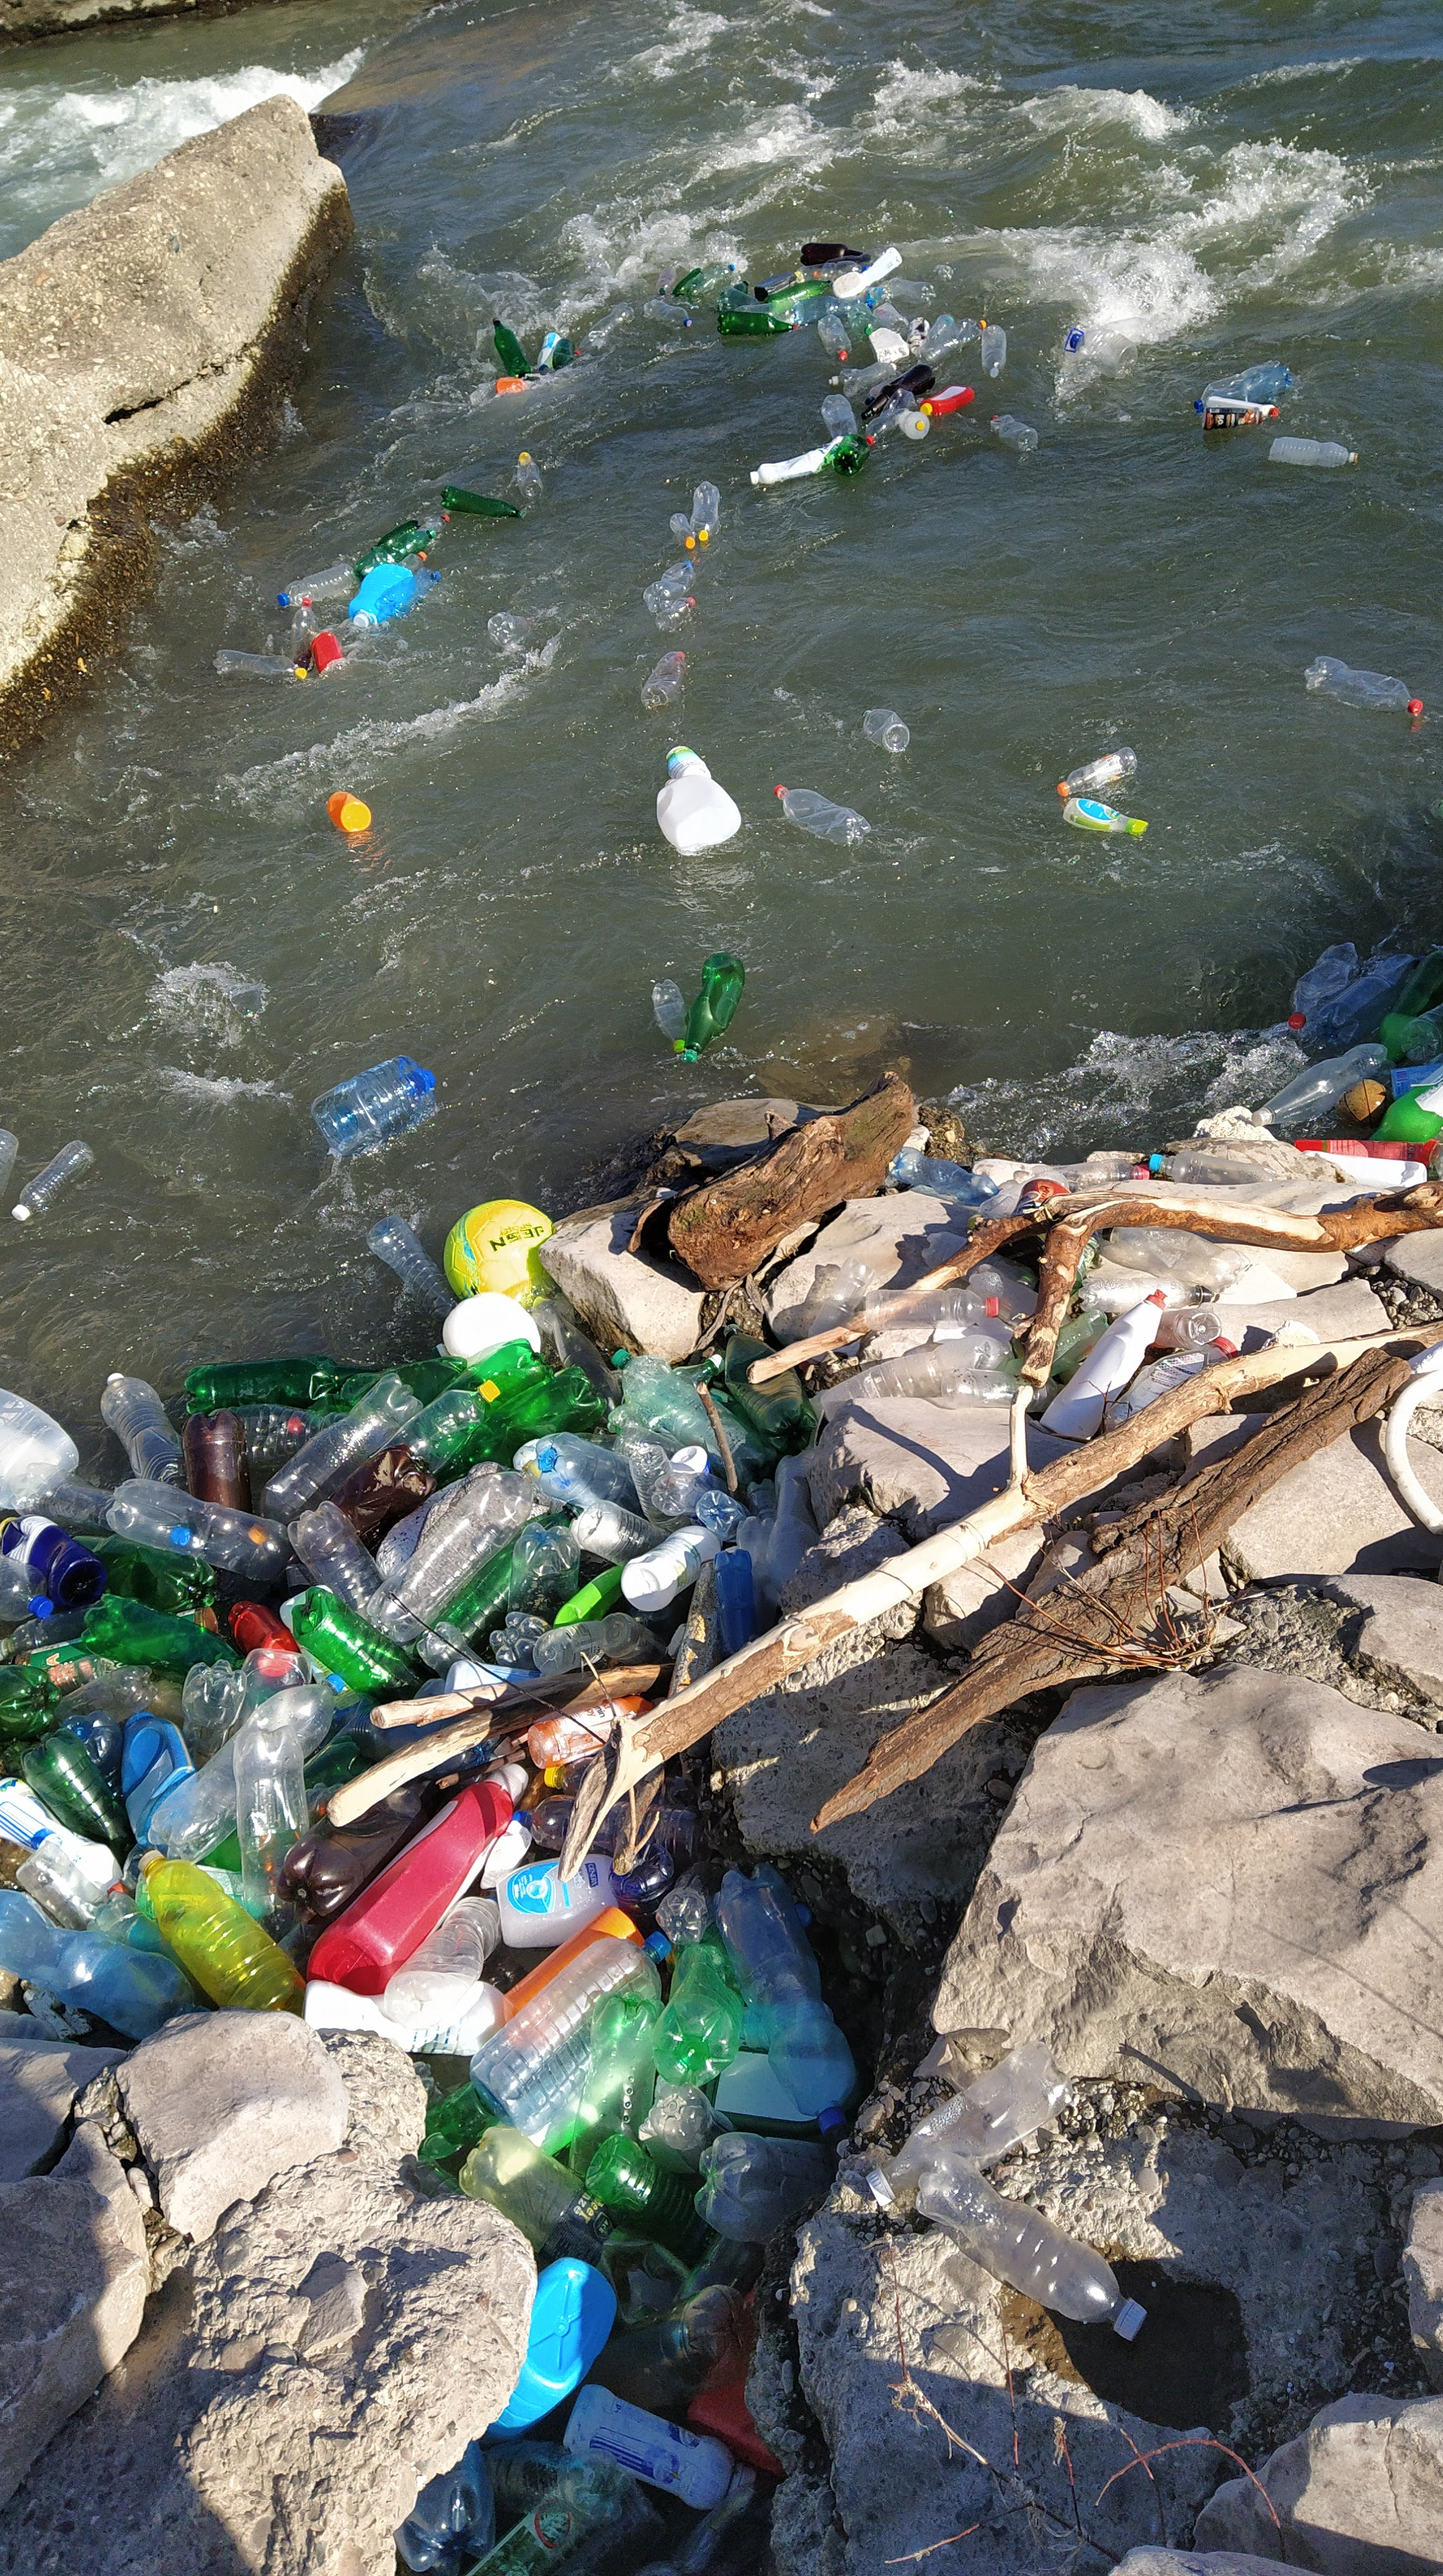Plastic Bottle: (260, 1373, 423, 1522), (106, 1479, 290, 1580), (310, 1054, 436, 1157), (1252, 1044, 1395, 1127), (184, 1357, 379, 1414), (99, 1373, 188, 1488), (74, 1534, 212, 1605), (0, 1389, 78, 1509), (1316, 954, 1418, 1044), (367, 1215, 455, 1318), (211, 1405, 349, 1470), (310, 1357, 467, 1408), (182, 1408, 253, 1513), (1379, 950, 1443, 1065), (1303, 655, 1422, 715), (9, 1463, 113, 1529), (683, 952, 745, 1062), (12, 1139, 94, 1221), (655, 775, 742, 847), (1287, 941, 1358, 1030), (774, 784, 871, 846), (1195, 363, 1289, 410), (860, 364, 937, 419), (347, 564, 411, 628), (1057, 747, 1138, 796), (1064, 327, 1138, 379), (356, 531, 436, 579), (375, 568, 441, 619), (575, 303, 636, 356), (921, 317, 990, 363), (278, 564, 352, 607), (1062, 798, 1147, 833), (212, 649, 306, 681), (864, 389, 917, 444), (1268, 435, 1358, 467), (643, 561, 696, 612), (747, 449, 823, 485), (641, 649, 685, 708), (652, 978, 687, 1051), (441, 485, 519, 517), (492, 317, 529, 377), (862, 708, 910, 752), (683, 262, 733, 303), (988, 414, 1039, 453), (290, 596, 317, 669), (717, 313, 800, 336), (804, 295, 875, 322), (919, 384, 974, 418), (326, 791, 370, 832), (1206, 396, 1278, 421), (845, 363, 898, 396), (691, 481, 721, 540), (832, 433, 871, 478), (735, 299, 804, 324), (914, 313, 951, 357), (818, 313, 852, 361), (822, 393, 859, 435), (882, 278, 937, 306), (487, 612, 533, 646), (800, 242, 862, 267), (643, 299, 692, 329), (666, 745, 712, 777), (981, 324, 1007, 377), (1202, 407, 1261, 430), (873, 301, 910, 336), (655, 596, 694, 630), (372, 520, 418, 548), (0, 1129, 18, 1200), (312, 632, 343, 671), (848, 303, 880, 341), (1103, 317, 1149, 343), (517, 453, 544, 499), (754, 271, 800, 297), (799, 264, 868, 281), (823, 249, 885, 269), (866, 248, 901, 281), (719, 287, 765, 311), (536, 331, 561, 375), (832, 272, 869, 299), (669, 511, 694, 548), (898, 410, 930, 439), (827, 363, 864, 386), (908, 317, 931, 352), (671, 267, 701, 294), (469, 380, 498, 405), (552, 340, 575, 368), (866, 379, 896, 400), (655, 265, 675, 295), (416, 513, 448, 531), (400, 550, 427, 571), (822, 437, 843, 464), (864, 287, 892, 303), (933, 262, 954, 281), (498, 377, 522, 393), (737, 280, 749, 292)
